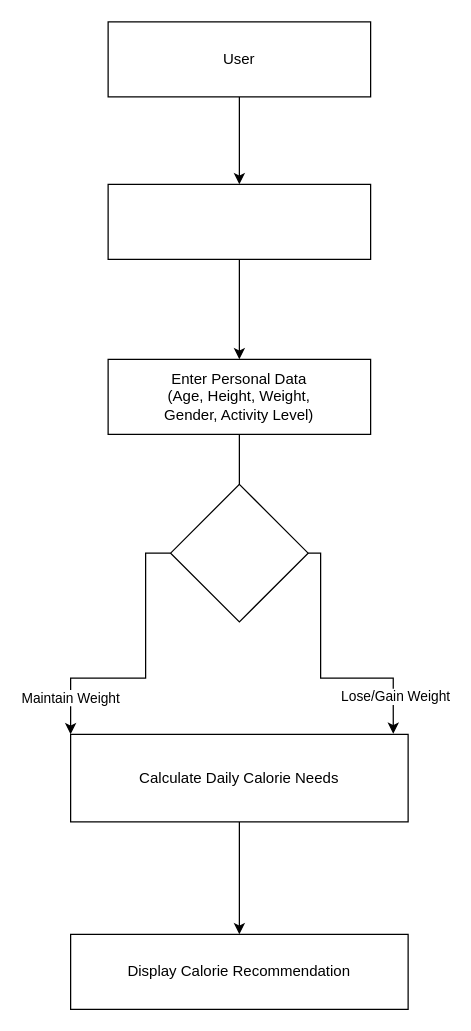
This 471x1031 diagram has some shape labels left out. The shapes that lost their labels are listed below. From the top down, each one's centre as x and y in pixels, then its label:
(239,221): Login / Guest Access
(238,552): Select Fitness Goal
